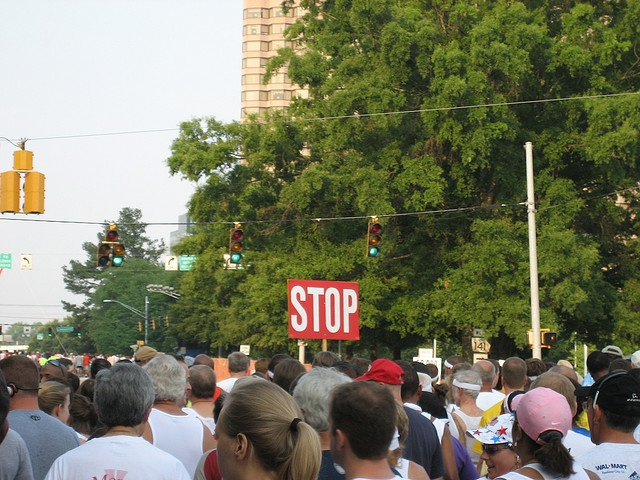stop sign: (287, 278, 640, 480)
traffic light: (369, 219, 640, 477), (230, 228, 474, 480), (95, 229, 223, 480), (24, 173, 68, 388), (0, 169, 19, 381)
